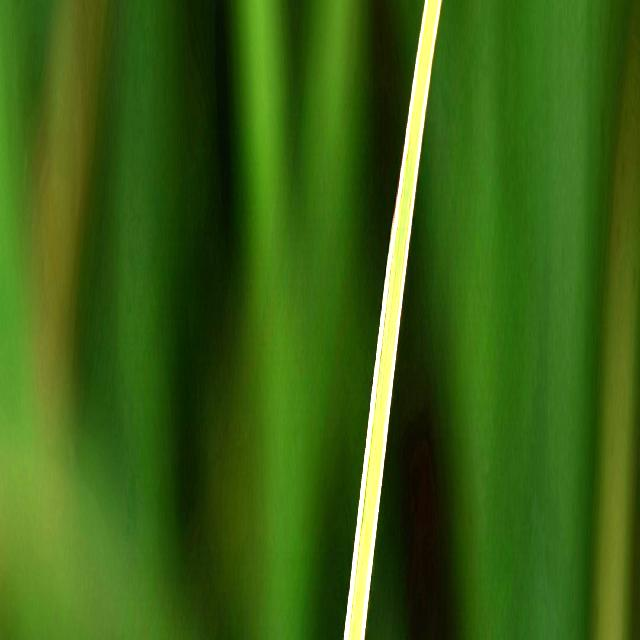BLB: (344, 0, 431, 640), (359, 0, 442, 640)
